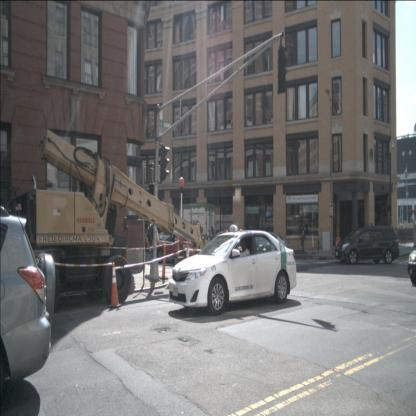cone: (109, 263, 121, 309), (160, 240, 168, 280), (311, 234, 316, 254)
